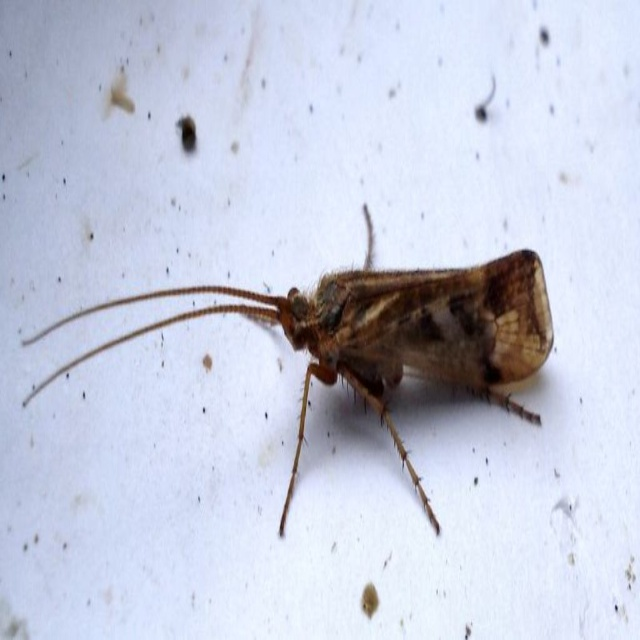Moths and butterflies: (18, 193, 556, 554)
